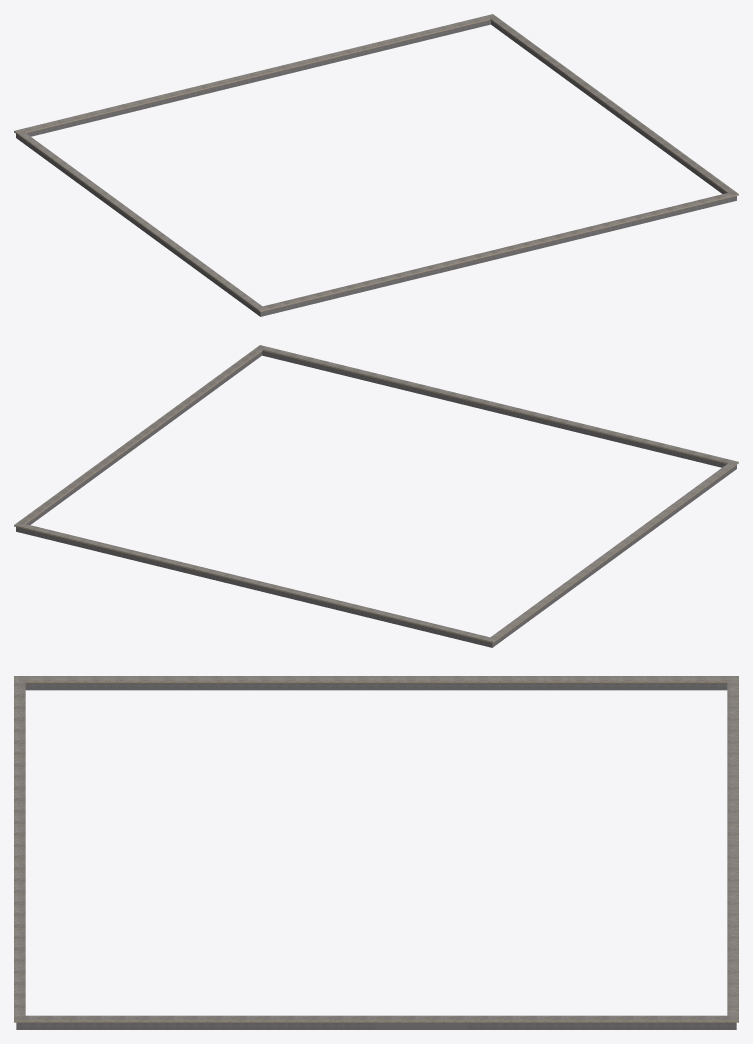
The model's file is luxorpillar03_lvs.obj.
The picture shows the model from 3 angles, top to bottom: view 1: azimuth 30°, elevation 25°; view 2: azimuth 150°, elevation 25°; view 3: azimuth 270°, elevation 25°; orthographic projection. The views are drawn at different scales.
Parts seen in each view (by area): view 1: luxorpillar03_lvs; view 2: luxorpillar03_lvs; view 3: luxorpillar03_lvs.
Boxes of the visible parts, box(x1,y1,x2,y2) form: luxorpillar03_lvs: box(14, 14, 738, 316); luxorpillar03_lvs: box(14, 345, 738, 647); luxorpillar03_lvs: box(14, 676, 738, 1029).
Bounding box in the file's own units: 181 × 2.5 × 161.
Materials: 3 (3 with a texture image).
